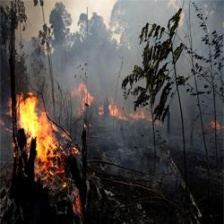fire: (11, 90, 84, 216), (101, 92, 164, 130)
smoke: (57, 2, 141, 68)
